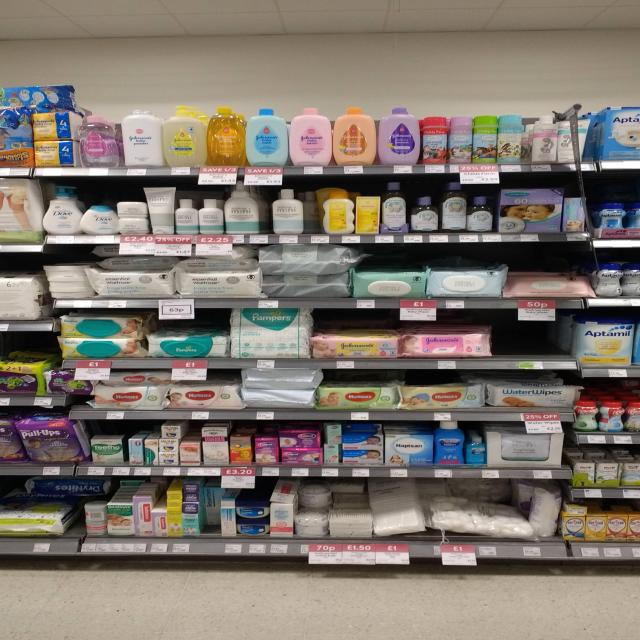empty: (496, 323, 566, 355)
